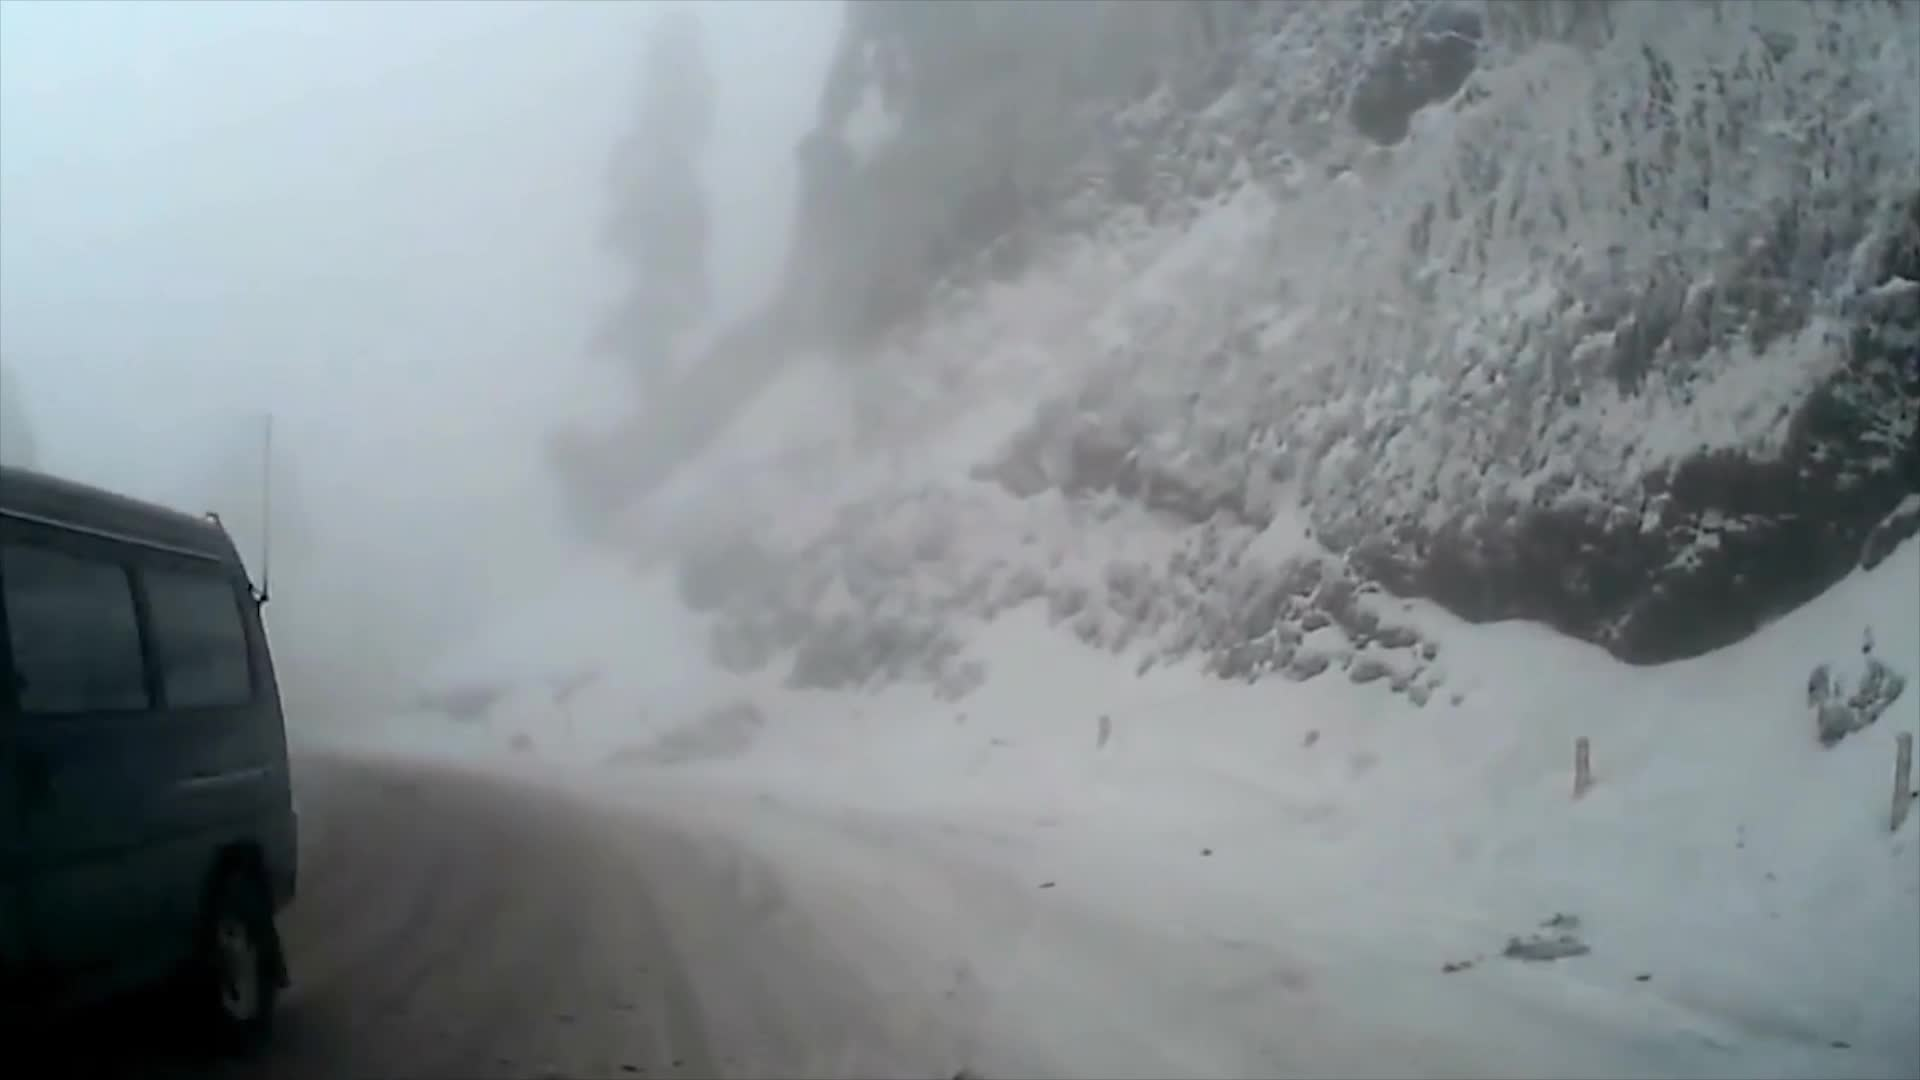vehicle: (0, 462, 301, 1080)
